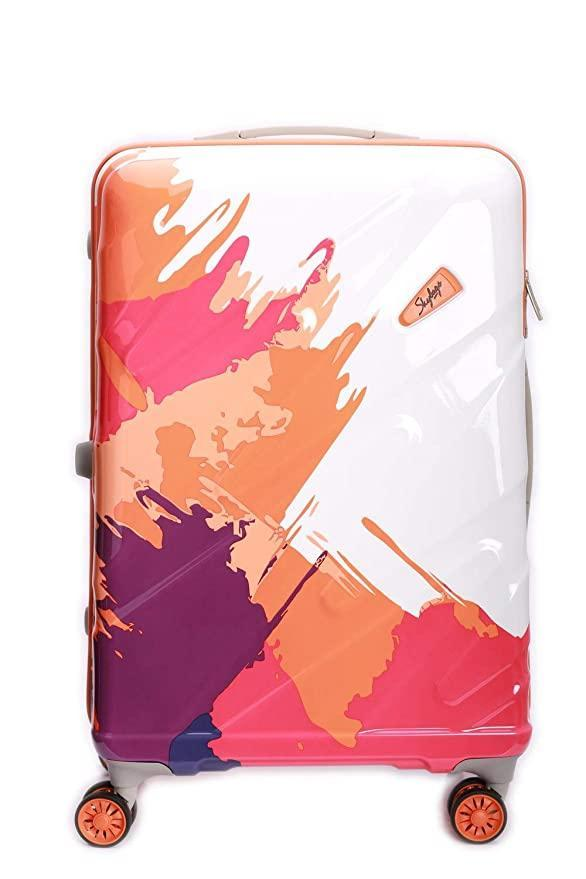suitcase: (72, 110, 543, 787)
